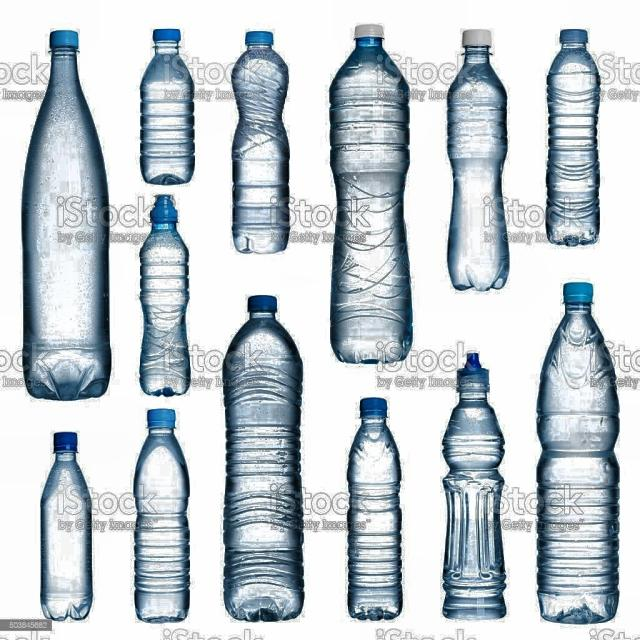Bottles: (15, 20, 113, 403), (319, 21, 426, 371), (216, 291, 312, 625), (532, 278, 623, 629), (435, 348, 518, 625), (442, 20, 520, 298), (220, 23, 307, 263), (127, 406, 200, 630), (540, 19, 608, 248), (342, 389, 406, 626), (132, 190, 197, 406), (34, 427, 98, 629), (129, 20, 203, 188)
